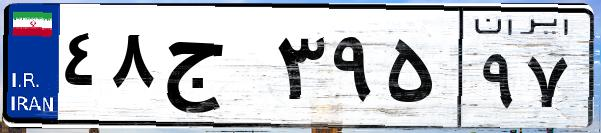3: (270, 28, 330, 110)
4: (57, 26, 110, 100)
5: (385, 28, 445, 110)
7: (525, 38, 570, 115)
8: (110, 28, 158, 98)
9: (330, 28, 385, 110), (475, 38, 525, 113)
ج: (158, 20, 270, 120)
